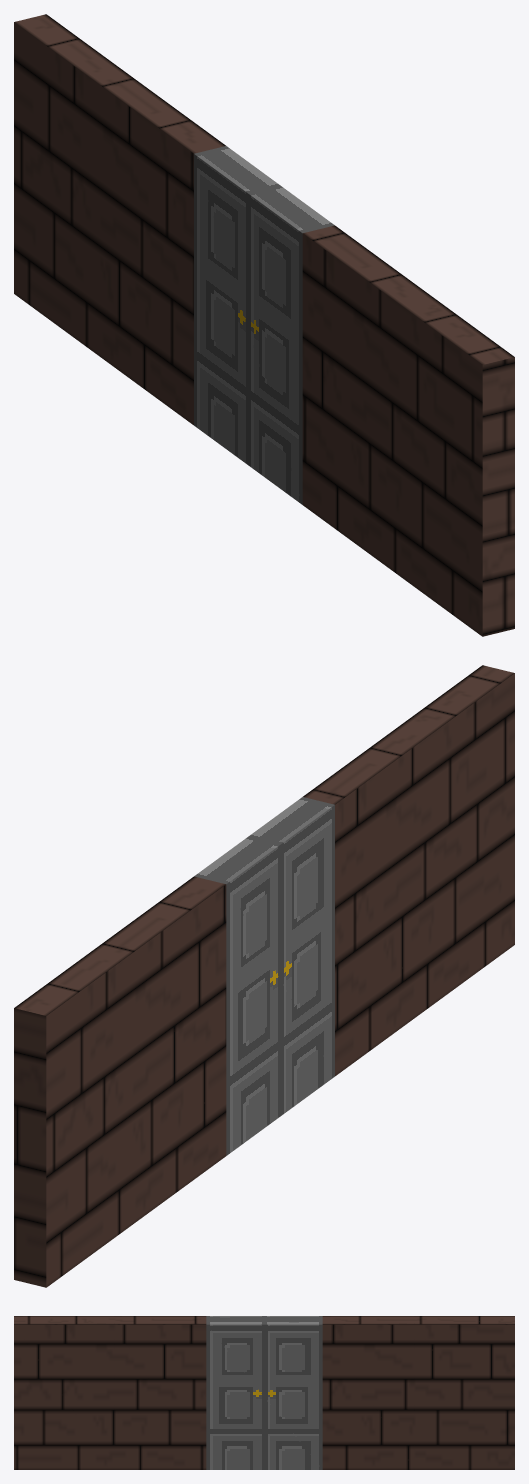
The model's file is door_vertical.fbx.
The picture shows the model from 3 angles, top to bottom: view 1: azimuth 30°, elevation 25°; view 2: azimuth 150°, elevation 25°; view 3: azimuth 270°, elevation 25°; orthographic projection. The views are drawn at different scales.
Parts seen in each view (by area): view 1: Wall_v, Door_v; view 2: Wall_v, Door_v; view 3: Wall_v, Door_v.
Part boxes in pixels (x1,y1,x2,y2): Wall_v: (14, 14, 514, 636); Door_v: (194, 146, 334, 504); Wall_v: (14, 665, 514, 1287); Door_v: (194, 797, 334, 1155); Wall_v: (14, 1316, 514, 1469); Door_v: (206, 1316, 322, 1469).
Size of the model in its own units: 50 by 400 by 1250.
